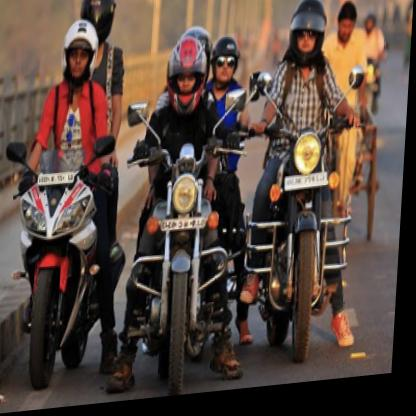With Helmet: (164, 38, 215, 121), (59, 15, 106, 96), (283, 0, 334, 74)
